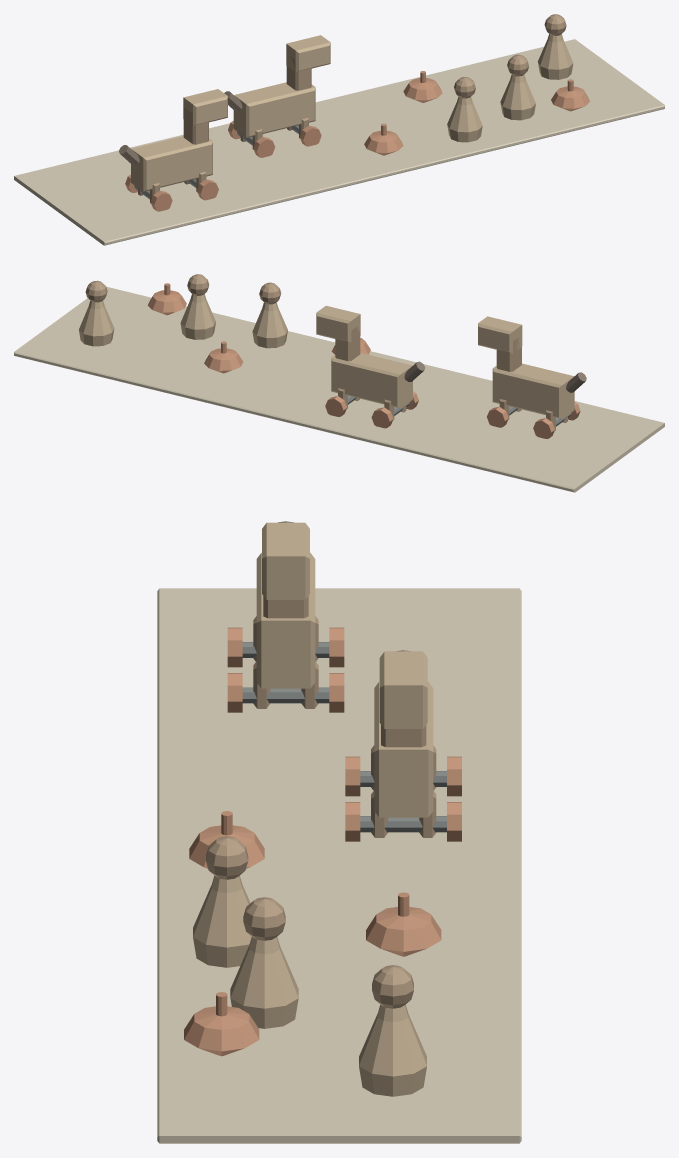
Rendered from WoodenToys.fbx.
3 views of the same model, one above another, from view 1: azimuth 30°, elevation 25°; view 2: azimuth 150°, elevation 25°; view 3: azimuth 270°, elevation 25° (orthographic). The views are drawn at different scales.
Parts seen in each view (by area): view 1: Body__FabricCream.003, Body__TimberLight.003, Body__Clay.001, Body__Timber.003, Body__TimberDark.003; view 2: Body__FabricCream.003, Body__TimberLight.003, Body__Clay.001, Body__Timber.003, Body__TimberDark.003; view 3: Body__FabricCream.003, Body__TimberLight.003, Body__Clay.001, Body__Timber.003, Body__Steel.001.
Boxes of the visible parts, box(x1,y1,x2,y2) form: Body__FabricCream.003: box(14, 39, 664, 245); Body__TimberLight.003: box(131, 34, 573, 191); Body__Clay.001: box(125, 71, 589, 211); Body__Timber.003: box(138, 14, 566, 203); Body__TimberDark.003: box(119, 91, 242, 165); Body__FabricCream.003: box(14, 286, 664, 492); Body__TimberLight.003: box(79, 294, 574, 418); Body__Clay.001: box(147, 283, 580, 438); Body__Timber.003: box(85, 274, 567, 430); Body__TimberDark.003: box(404, 361, 586, 392); Body__FabricCream.003: box(157, 588, 521, 1143); Body__TimberLight.003: box(193, 522, 433, 1096); Body__Clay.001: box(184, 627, 461, 1056); Body__Timber.003: box(206, 596, 436, 1008); Body__Steel.001: box(242, 642, 446, 832).
Size of the model in its own units: 2.42 by 0.385 by 0.68.
